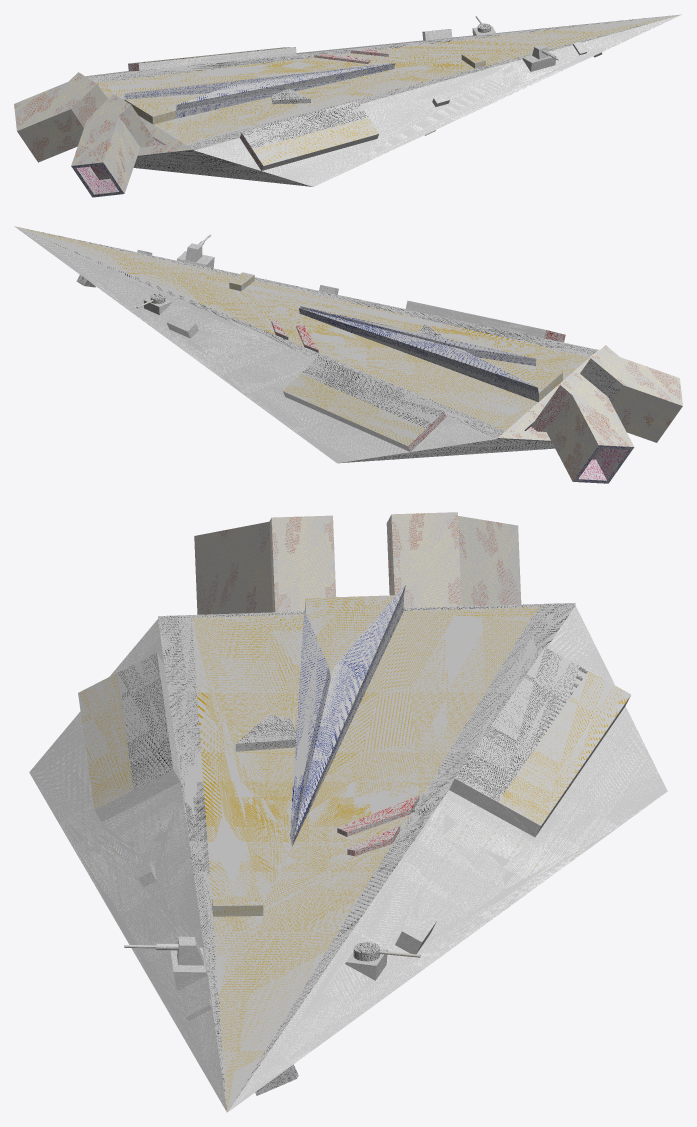
The picture shows the model from 3 angles, top to bottom: view 1: azimuth 30°, elevation 25°; view 2: azimuth 150°, elevation 25°; view 3: azimuth 270°, elevation 25°; orthographic projection. The views are drawn at different scales.
Visible parts, largest first — view 1: mesh1.001_mesh1-geometry; view 2: mesh1.001_mesh1-geometry; view 3: mesh1.001_mesh1-geometry.
Boxes of the visible parts, x1=… form: mesh1.001_mesh1-geometry: x1=14, y1=14, x2=682, y2=197; mesh1.001_mesh1-geometry: x1=14, y1=226, x2=682, y2=483; mesh1.001_mesh1-geometry: x1=29, y1=512, x2=667, y2=1112.
Bounding box in the file's own units: 0.905 × 0.1139 × 0.4098.
